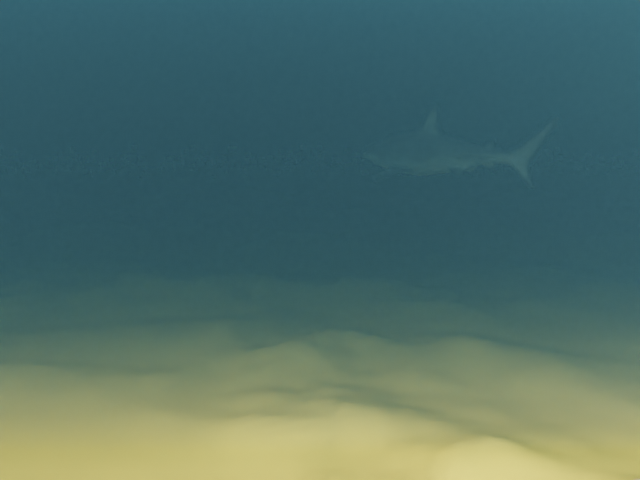Carribean Shark.001: (362, 105, 559, 188)
